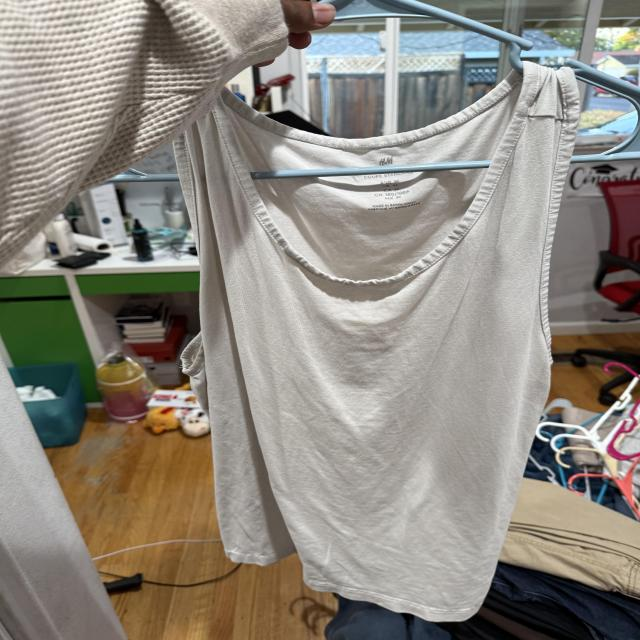back_tag: (348, 150, 433, 216)
